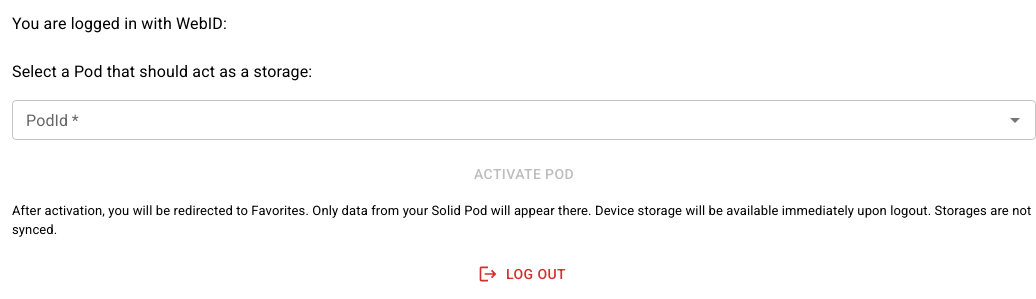
it: <SolidContent /> › should enable activation button if some PodId is selected, and disable otherwise
The image size is (1036, 299).
Check: the button "Activate Pod" is disabled, box [466,156,582,192]
What coordinates should you click on to do the following:
click the button named "Open"
I would click on:
 (1015, 120)
Its box is [1001,106,1029,134].
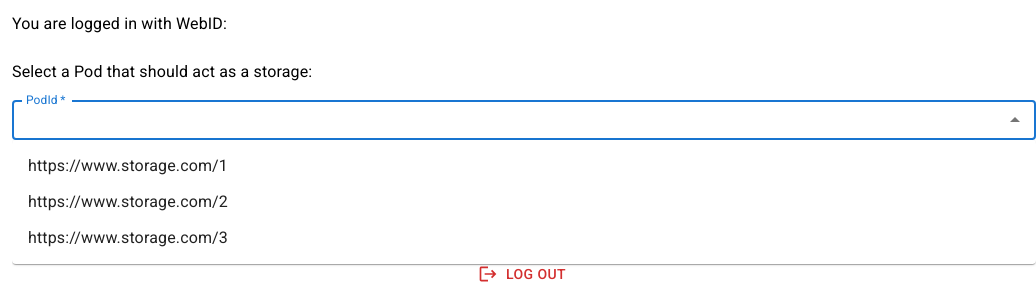
What coordinates should you click on to do the following:
click the option "https://www.storage.com/2"
I would click on:
 (128, 202)
Its box is [28,192,228,211].
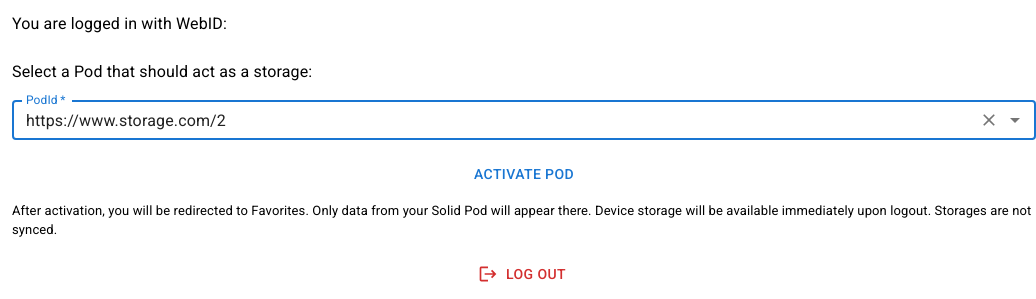
Check: the button "Activate Pod" is enabled, box [466,156,582,192]
What coordinates should you click on to do the following:
click the button named "Clear"
I would click on:
 (989, 120)
Its box is [975,106,1003,134].
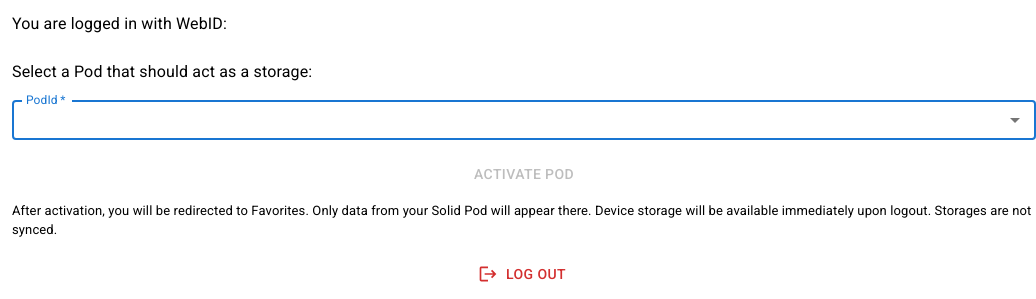
Check: the button "Activate Pod" is disabled, box [466,156,582,192]
